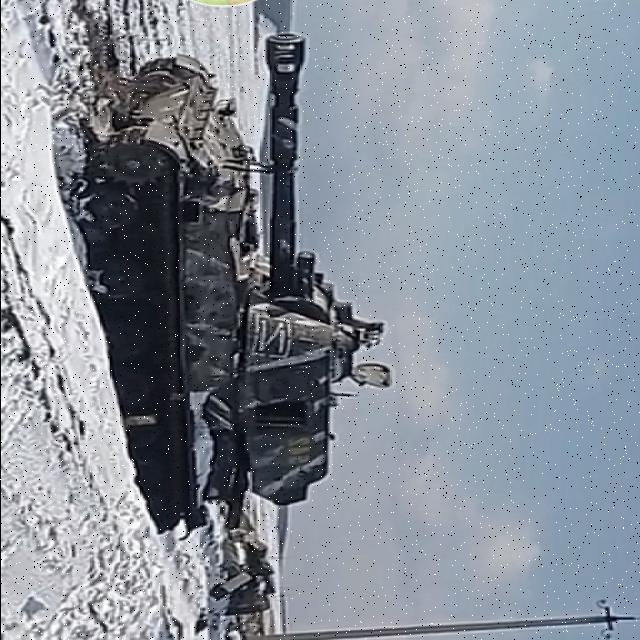ART: (66, 35, 358, 539)
